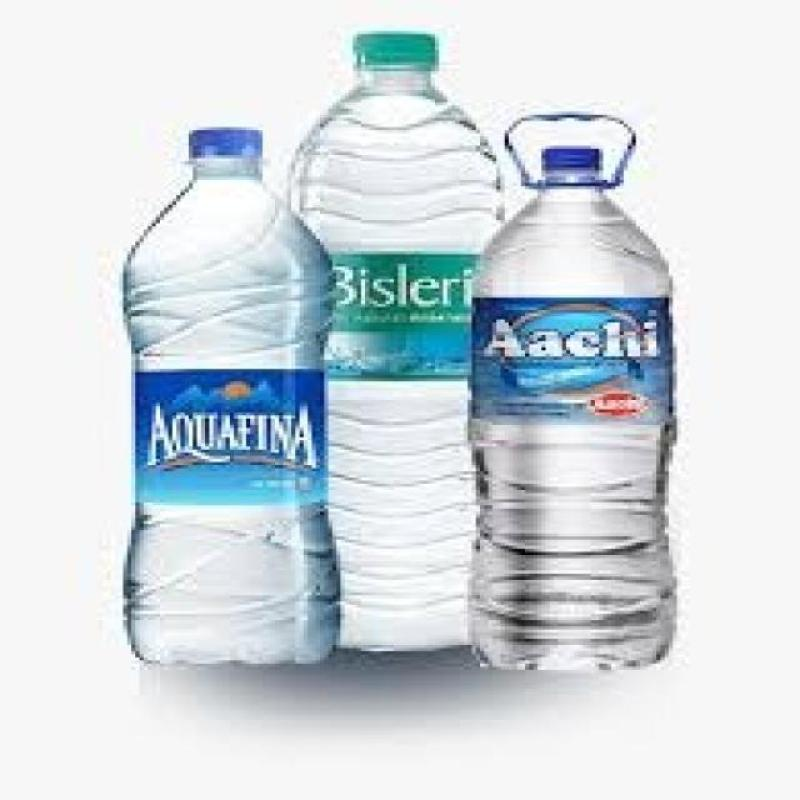botella: (281, 33, 507, 658), (119, 127, 340, 667), (461, 149, 679, 682)
